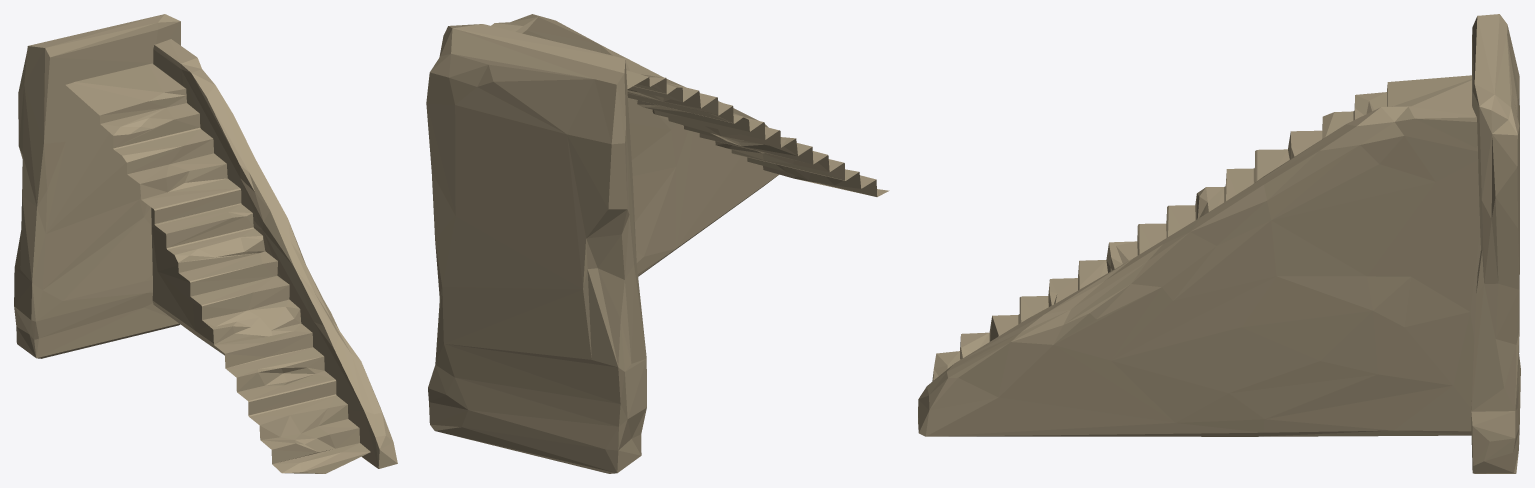
The model's file is SM_stairs_building_01.fbx.
3 views of the same model, side by side, from view 1: azimuth 30°, elevation 25°; view 2: azimuth 150°, elevation 25°; view 3: azimuth 270°, elevation 25° (orthographic). The views are drawn at different scales.
Visible parts, largest first — view 1: Object171; view 2: Object171; view 3: Object171.
Boxes of the visible parts, left/top/right/bottom form: Object171: left=14, top=14, right=397, bottom=473; Object171: left=426, top=14, right=889, bottom=473; Object171: left=918, top=14, right=1520, bottom=473.
Bounding box in the file's own units: 72.95 × 198 × 137.
